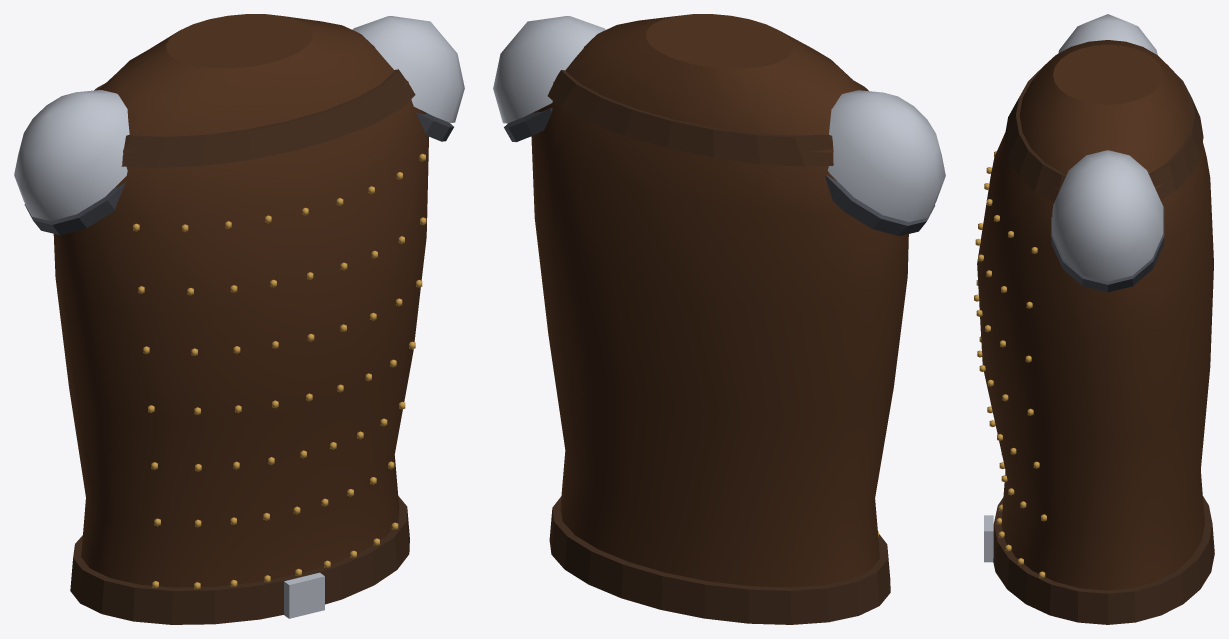
The model's file is body_brigandine.glb.
3 renders of one model, left to right at view 1: azimuth 30°, elevation 25°; view 2: azimuth 150°, elevation 25°; view 3: azimuth 270°, elevation 25°, orthographic. The views are drawn at different scales.
Parts seen in each view (by area): view 1: Body_brigandine_Leather, Body_brigandine_Worn_leather, Body_brigandine_Steel, Body_brigandine_Brass, Body_brigandine_Darksteel; view 2: Body_brigandine_Leather, Body_brigandine_Worn_leather, Body_brigandine_Steel, Body_brigandine_Darksteel; view 3: Body_brigandine_Leather, Body_brigandine_Steel, Body_brigandine_Worn_leather, Body_brigandine_Brass, Body_brigandine_Darksteel.
Part boxes in pixels (<box>): Body_brigandine_Leather: <box>53,14,428,587</box>; Body_brigandine_Worn_leather: <box>70,69,415,624</box>; Body_brigandine_Steel: <box>14,16,464,618</box>; Body_brigandine_Brass: <box>133,153,426,589</box>; Body_brigandine_Darksteel: <box>24,112,453,235</box>; Body_brigandine_Leather: <box>531,14,908,587</box>; Body_brigandine_Worn_leather: <box>547,70,890,624</box>; Body_brigandine_Steel: <box>493,16,945,221</box>; Body_brigandine_Darksteel: <box>504,107,935,236</box>; Body_brigandine_Leather: <box>977,40,1213,590</box>; Body_brigandine_Steel: <box>984,14,1163,562</box>; Body_brigandine_Worn_leather: <box>993,67,1214,624</box>; Body_brigandine_Brass: <box>974,151,1046,578</box>; Body_brigandine_Darksteel: <box>1051,206,1164,292</box>.
Bounding box in the file's own units: 0.4868 × 0.56 × 0.254.
